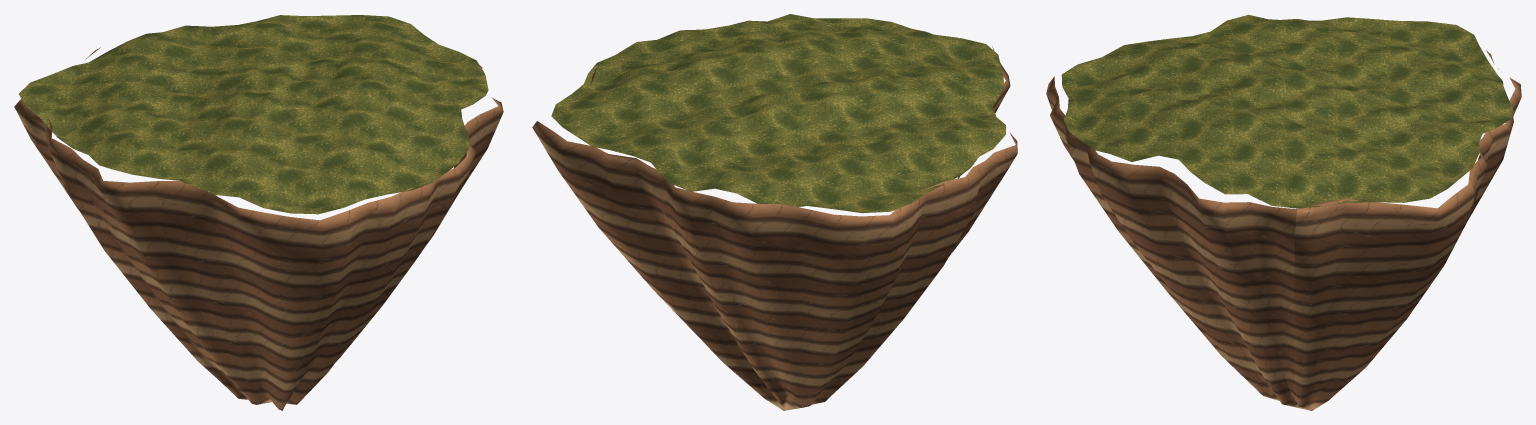
The model's file is isle1.glb.
3 renders of one model, left to right at view 1: azimuth 30°, elevation 25°; view 2: azimuth 150°, elevation 25°; view 3: azimuth 270°, elevation 25°, orthographic.
Visible parts, largest first — view 1: Island; view 2: Island; view 3: Island.
Boxes of the visible parts, x1=… form: Island: x1=14, y1=15, x2=503, y2=410; Island: x1=532, y1=14, x2=1017, y2=410; Island: x1=1046, y1=14, x2=1521, y2=410.
Size of the model in its own units: 135 by 103 by 137.
2 materials, 2 textured.
